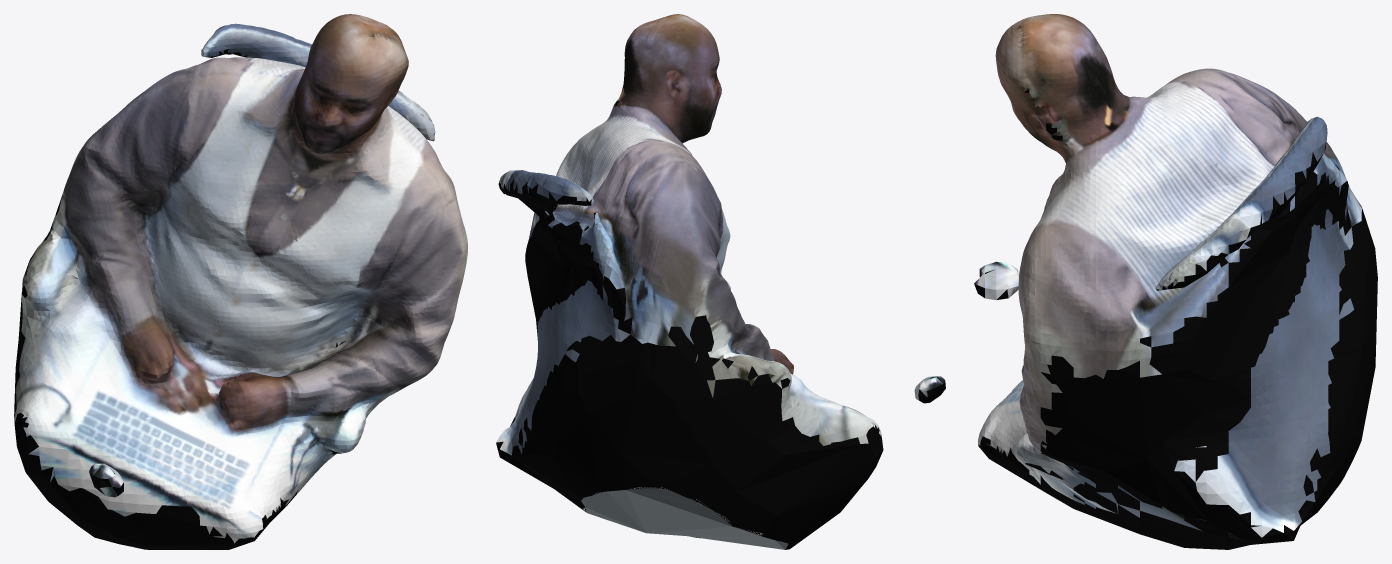
Rendered from Dwight-at-office.glb.
3 renders of one model, left to right at view 1: azimuth 30°, elevation 25°; view 2: azimuth 150°, elevation 25°; view 3: azimuth 270°, elevation 25°, orthographic. The views are drawn at different scales.
Size of the model in its own units: 0.8044 by 0.9591 by 0.6154.
Materials: 1 (1 with a texture image).
